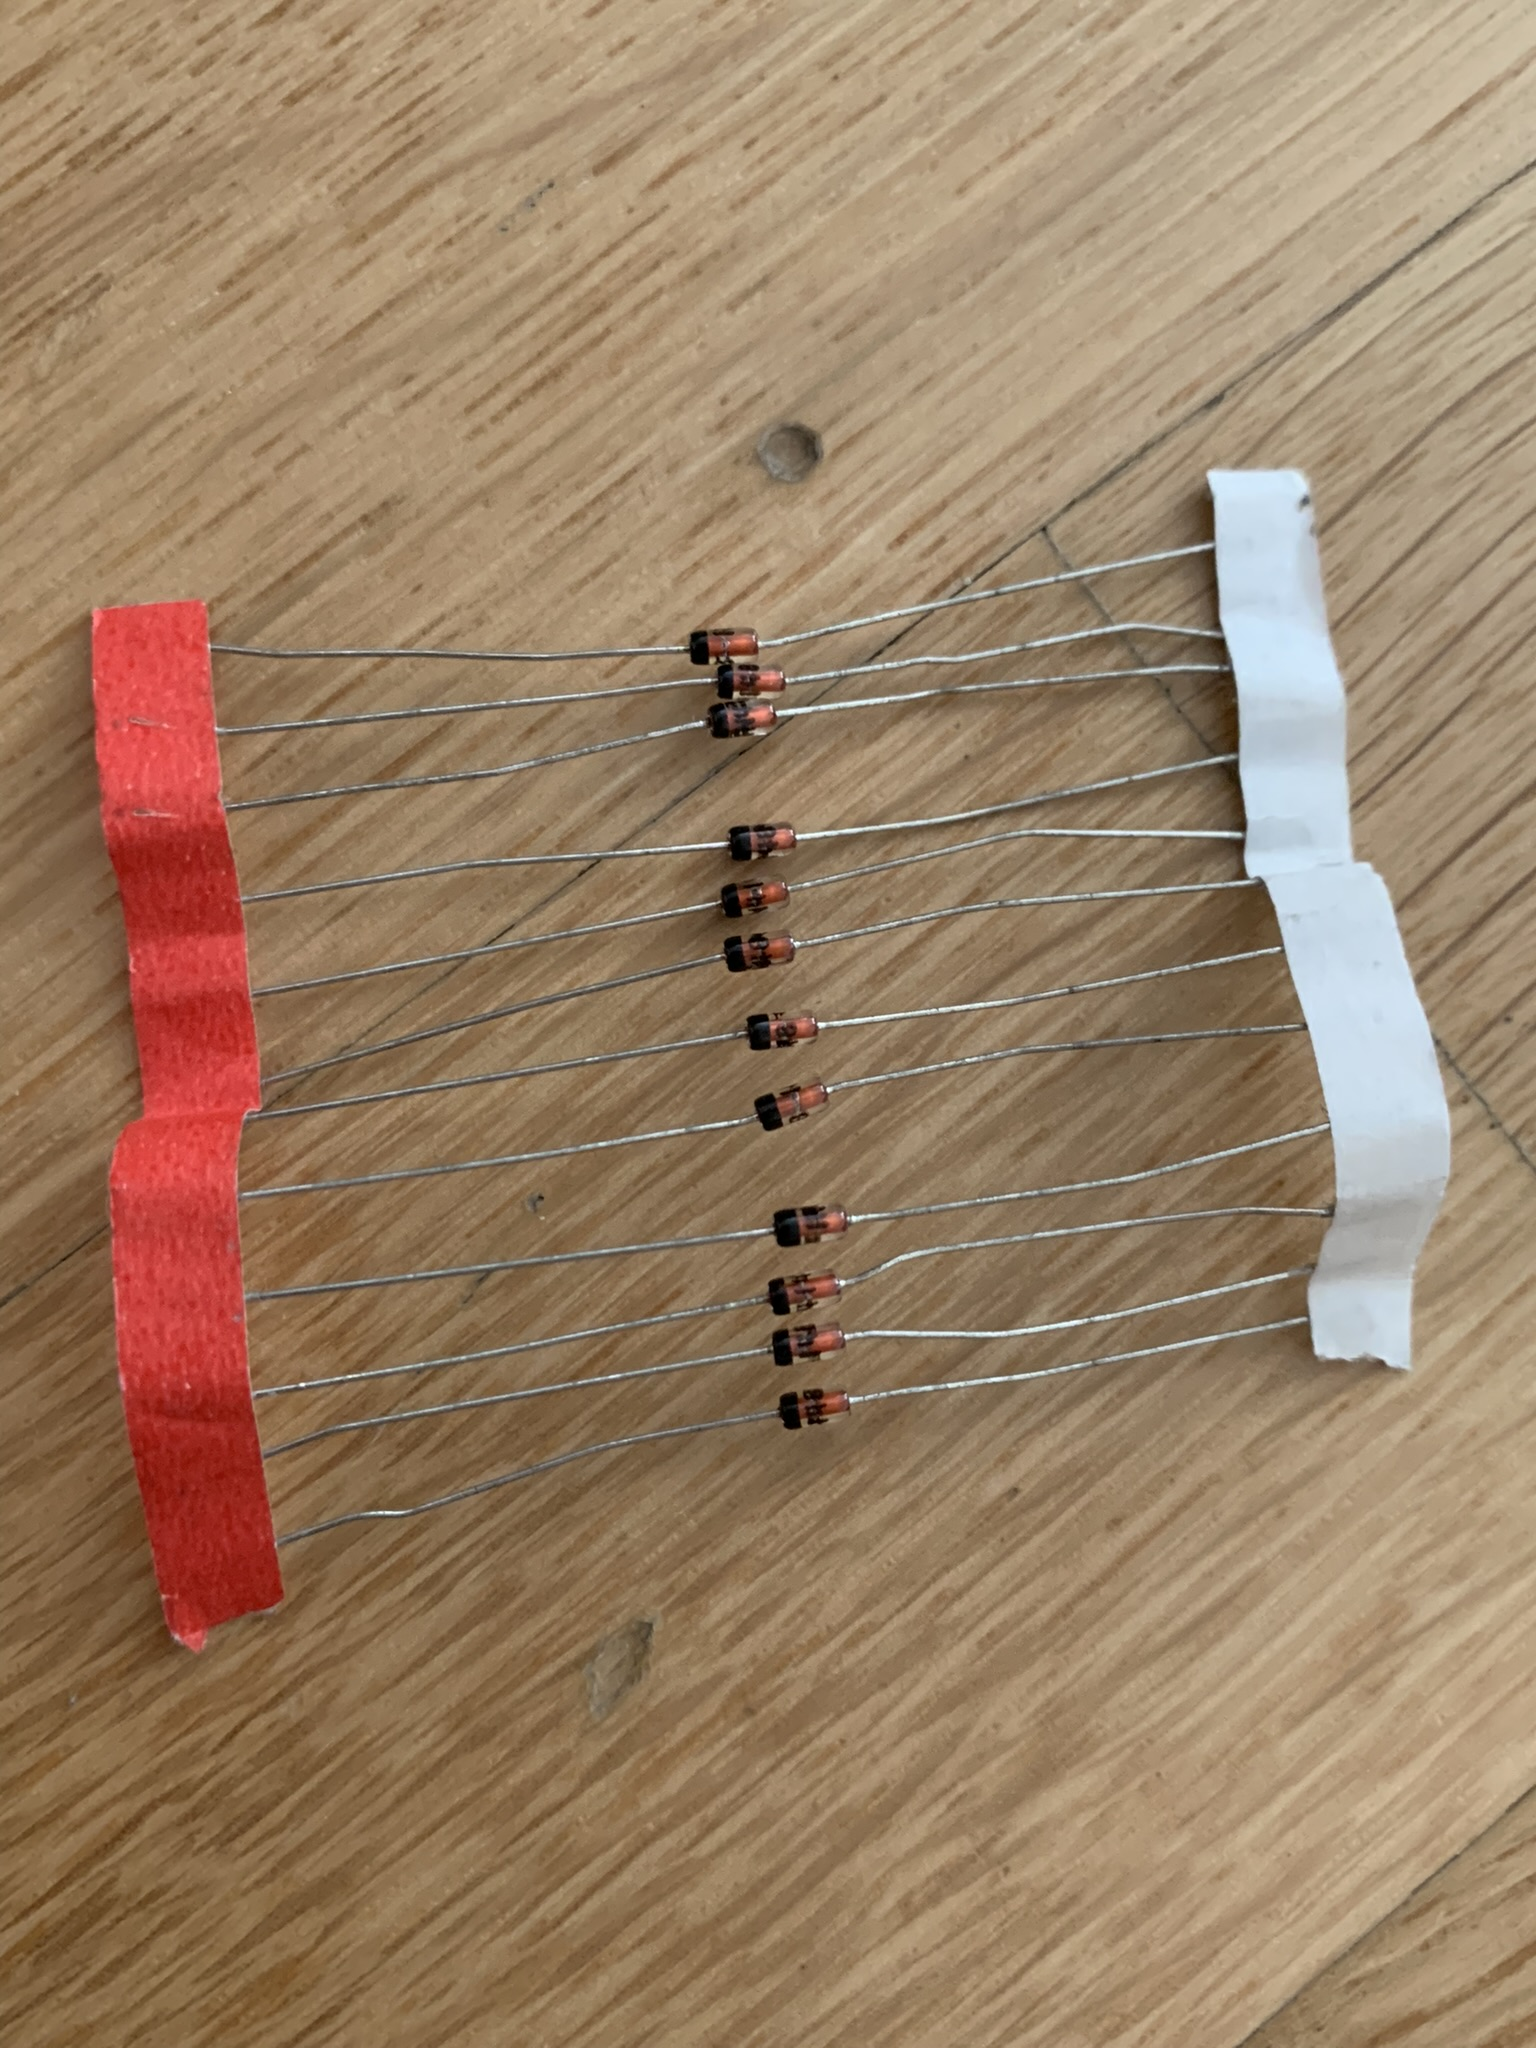diode_thd_z: (755, 1076, 829, 1130), (770, 1319, 849, 1367), (773, 1201, 852, 1248), (766, 1271, 844, 1314), (721, 927, 795, 972), (686, 626, 765, 668), (778, 1387, 854, 1430), (744, 1009, 820, 1051), (721, 872, 791, 918), (728, 821, 799, 861), (708, 697, 778, 737), (713, 663, 787, 700)
